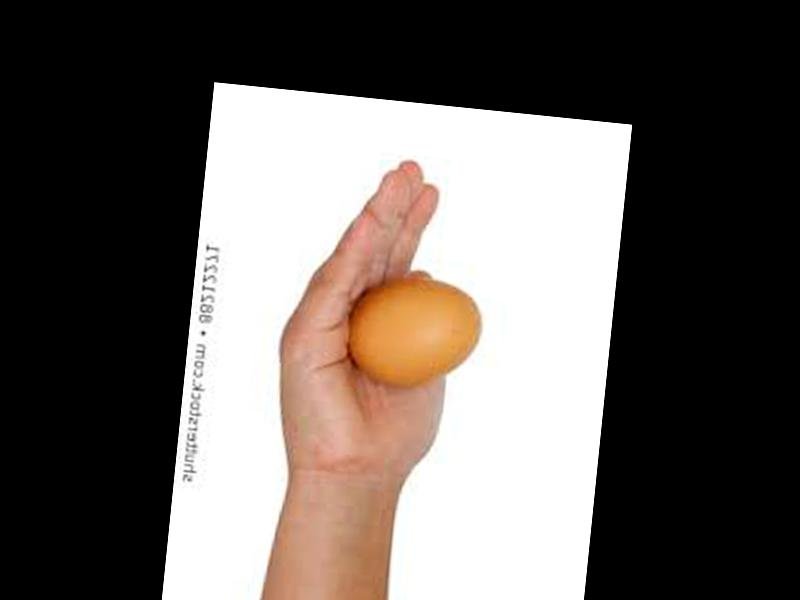Eggs: (341, 272, 486, 393)
